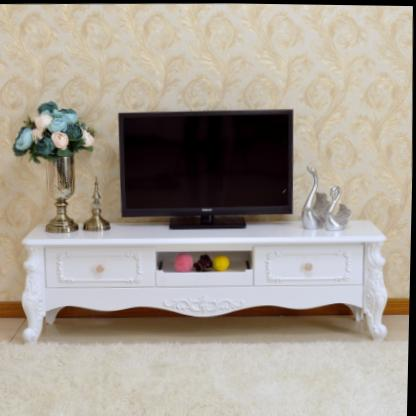TV stand: (16, 212, 394, 349)
